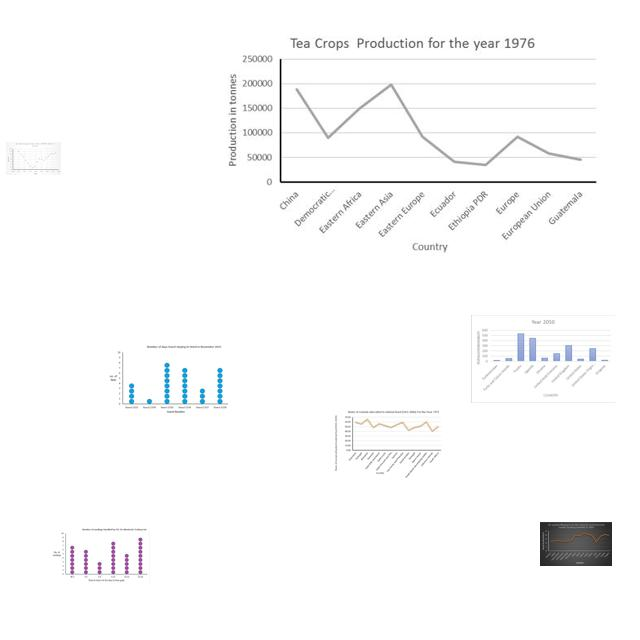Graph: (221, 29, 602, 254), (471, 315, 615, 403), (108, 344, 228, 415), (333, 409, 444, 479), (50, 526, 150, 584), (540, 522, 612, 566), (6, 142, 61, 175)
